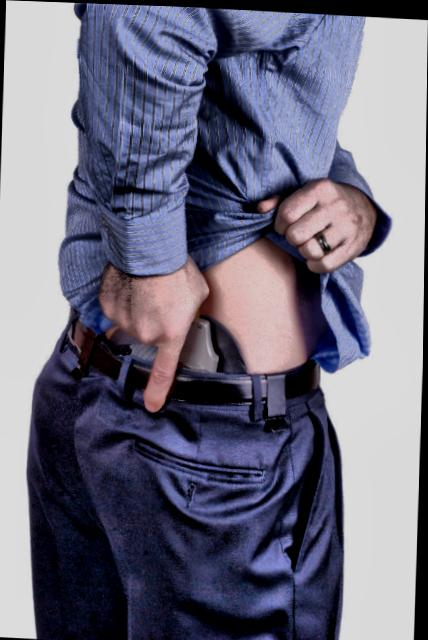pistol: (119, 291, 237, 392)
